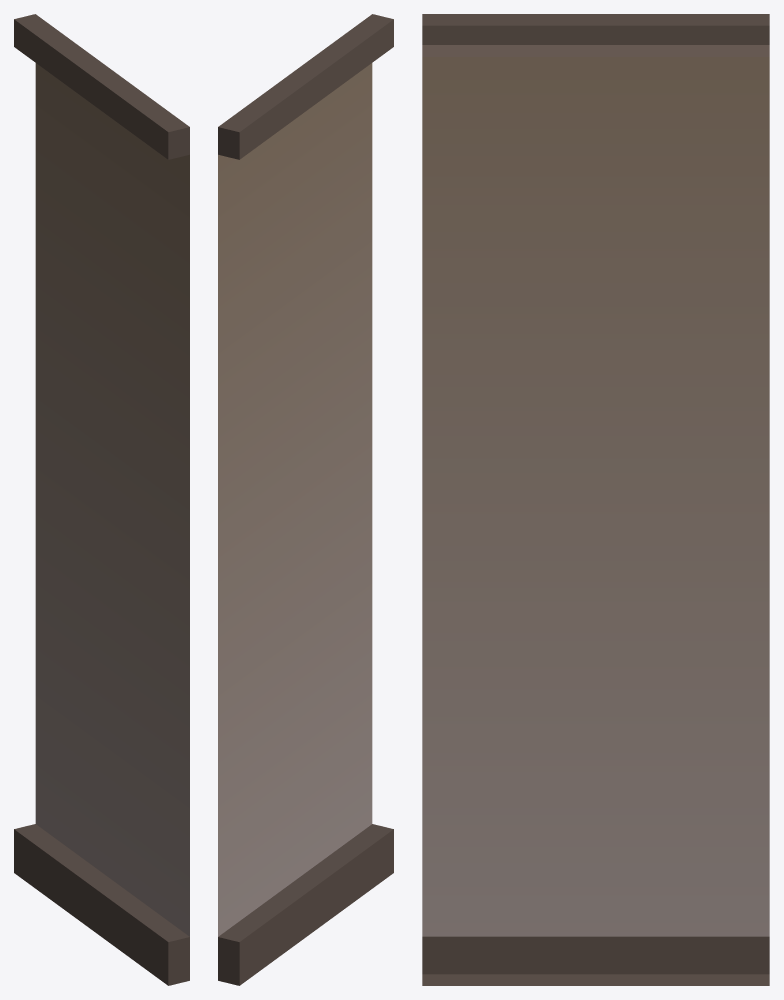
The model's file is B01_wall_1.fbx.
3 views of the same model, side by side, from view 1: azimuth 30°, elevation 25°; view 2: azimuth 150°, elevation 25°; view 3: azimuth 270°, elevation 25° (orthographic). The views are drawn at different scales.
Visible parts, largest first — view 1: B01_wall_1; view 2: B01_wall_1; view 3: B01_wall_1.
Part boxes in pixels (x1,y1,x2,y2): B01_wall_1: (14, 14, 189, 985); B01_wall_1: (218, 14, 393, 985); B01_wall_1: (422, 14, 769, 985).
Size of the model in its own units: 8.03 by 305 by 100.
